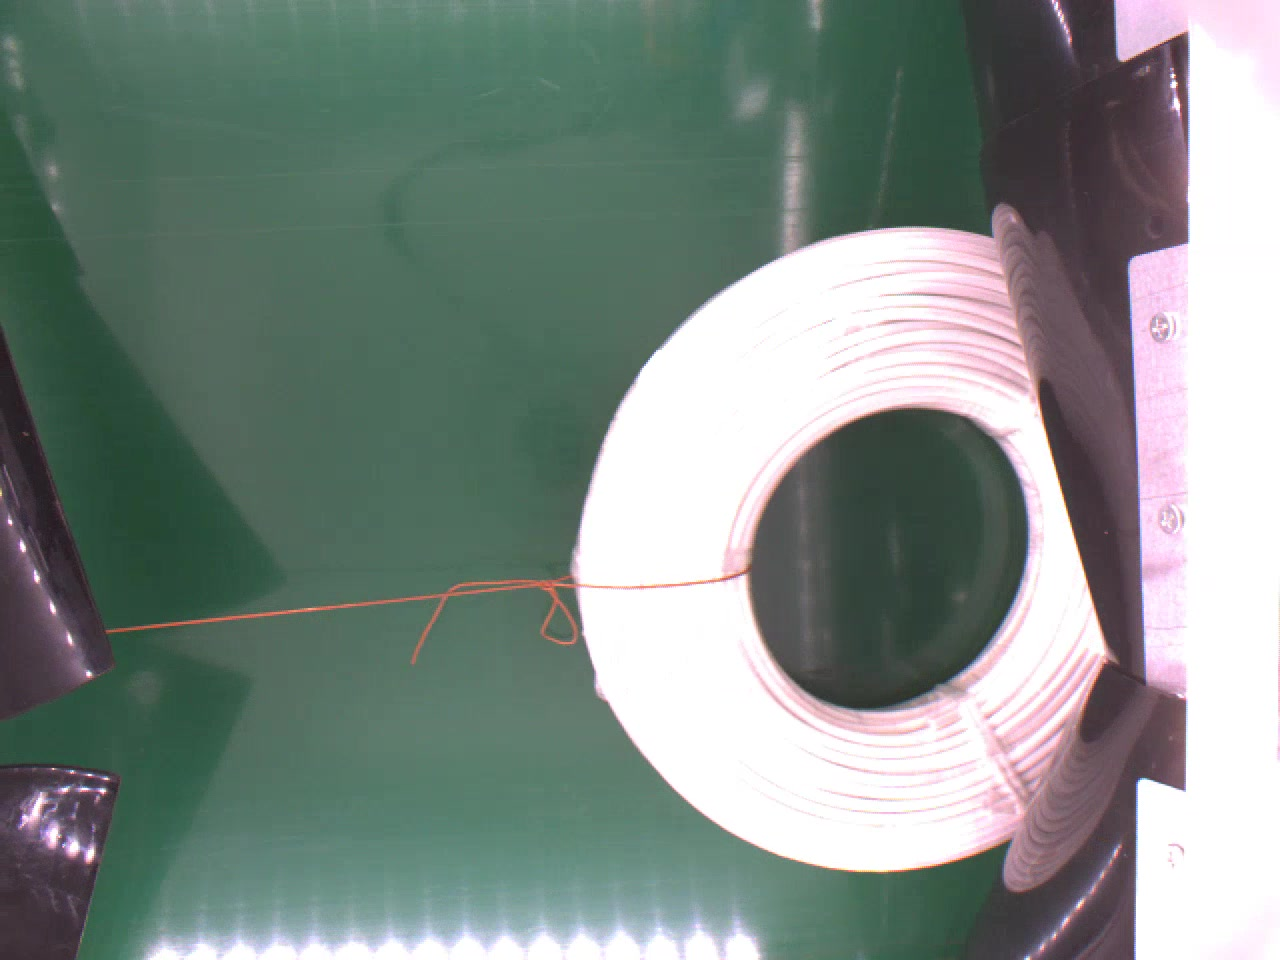white: (573, 224, 1105, 869)
